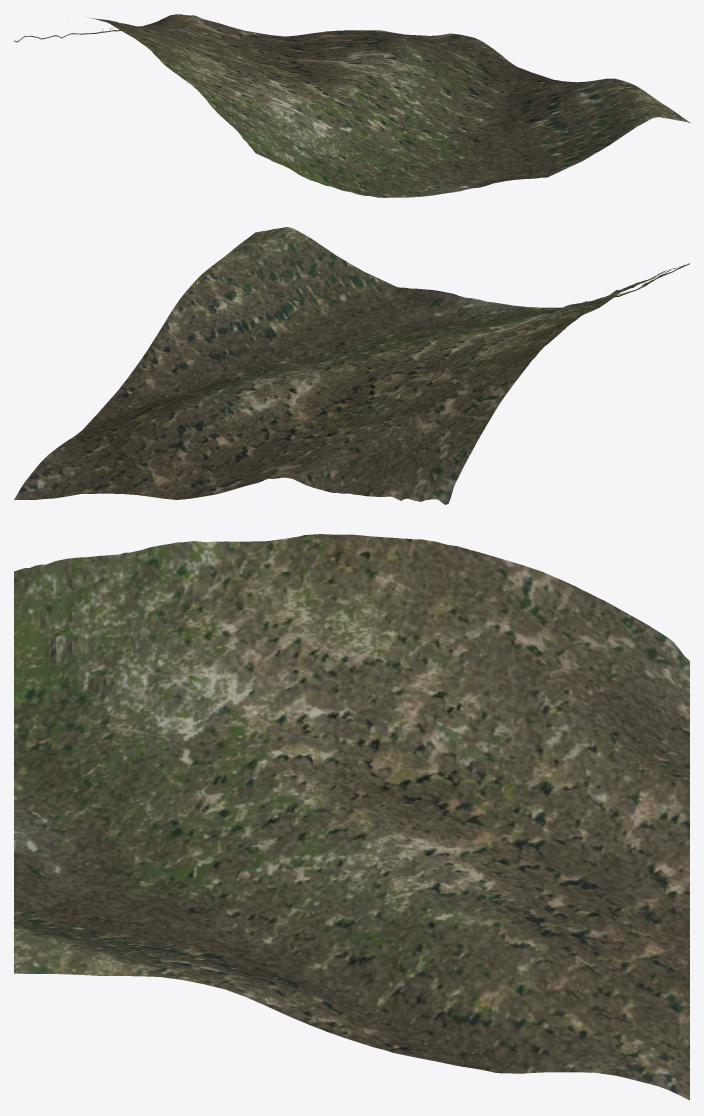
3 views of the same model, one above another, from view 1: azimuth 30°, elevation 25°; view 2: azimuth 150°, elevation 25°; view 3: azimuth 270°, elevation 25° (orthographic). The views are drawn at different scales.
Size of the model in its own units: 500 by 213 by 481.
1 material, 1 textured.
